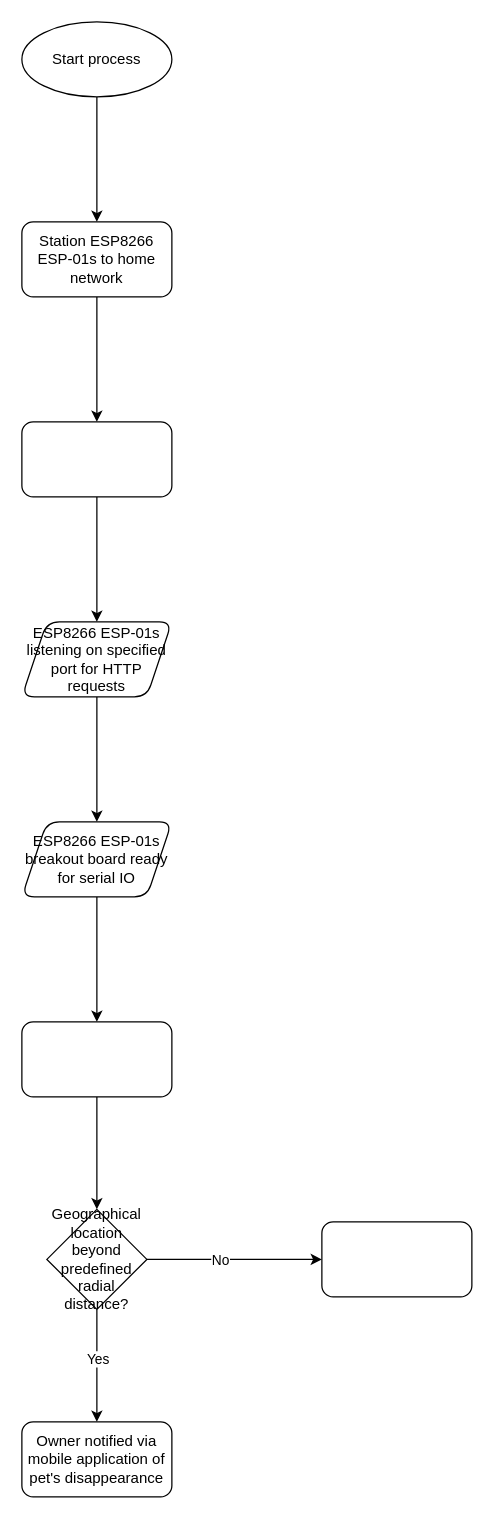
The diagram is 494 pixels wide and 1519 high, and some of its shapes have lost their labels. The centre of each missing label's shape, as x and y in pixels:
Configure ESP8266 ESP-01s as TCP server: the point at 96,459
ESP8266 ESP-01s transmits geographical data with WifiLocation library: the point at 96,1059
Owner not notified; geographical data logged via mobile application: the point at 396,1259
